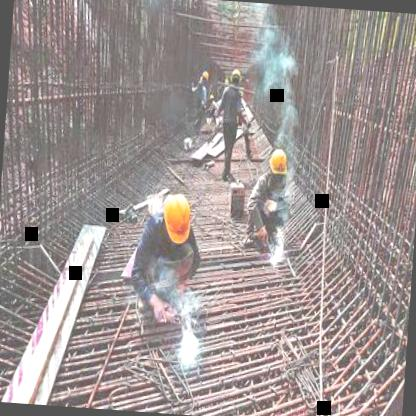helmet: (160, 191, 194, 246), (264, 146, 291, 186), (229, 64, 243, 86)
